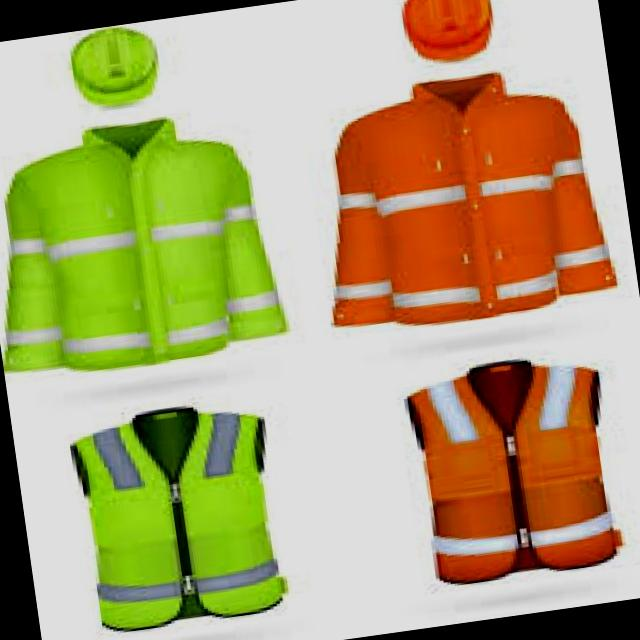construction-vest: (12, 134, 251, 380), (352, 92, 582, 328), (408, 356, 620, 584), (73, 404, 280, 632)
